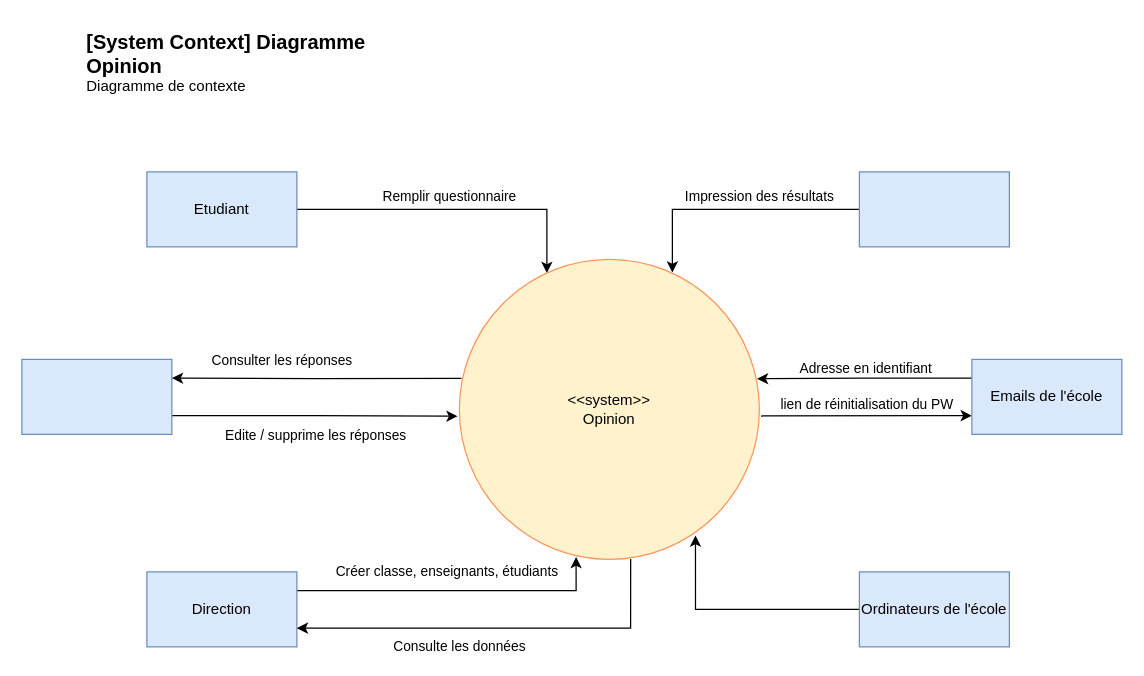
This 1144x676 diagram has some shape labels left out. The centre of each missing label's shape, as x and y in pixels:
"Enseignant" goes at point (96, 396).
"Imprimante" goes at point (933, 209).
